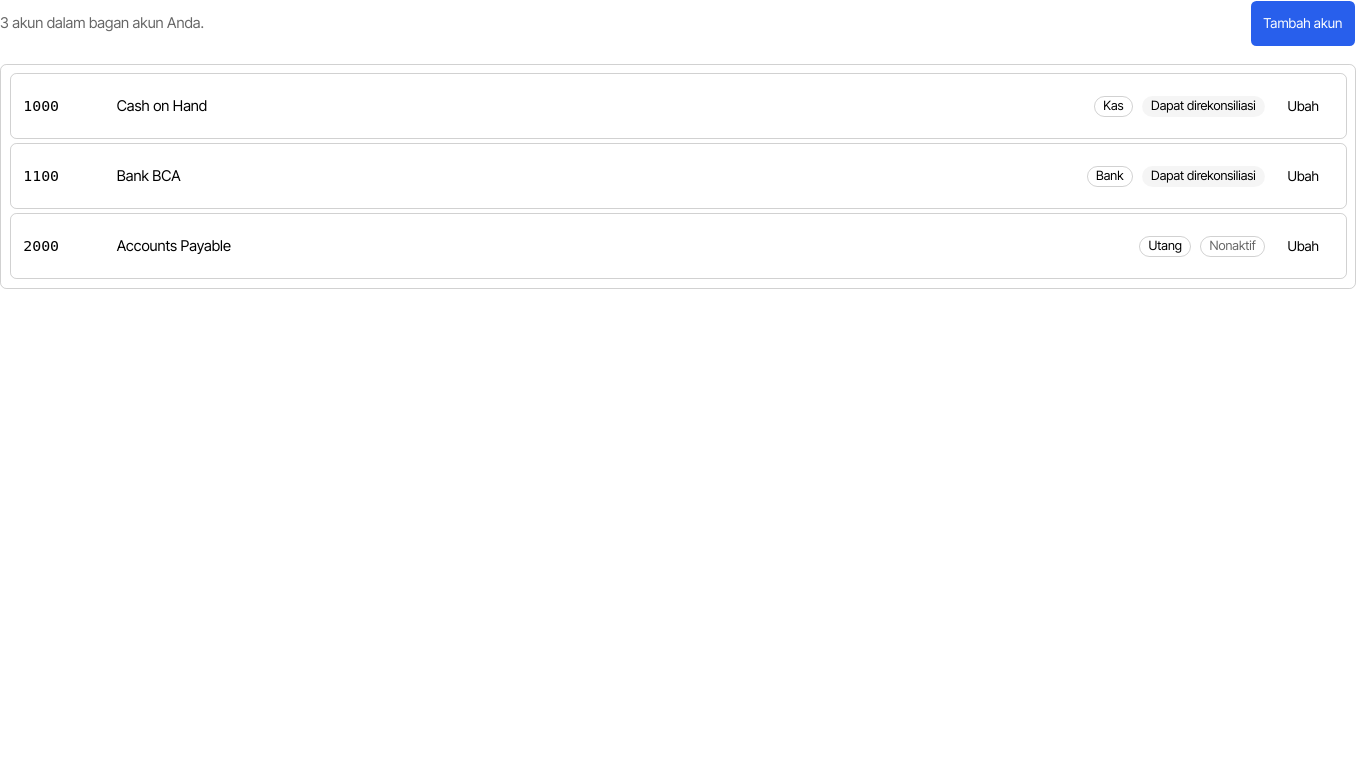
Test: AccountsSection › opens the create dialog from the add button
Expected: the text "Cash on Hand" is shown, 117,96 -> 207,114
Click the button "Tambah akun" at (1303, 23), box 1250,0 -> 1356,47
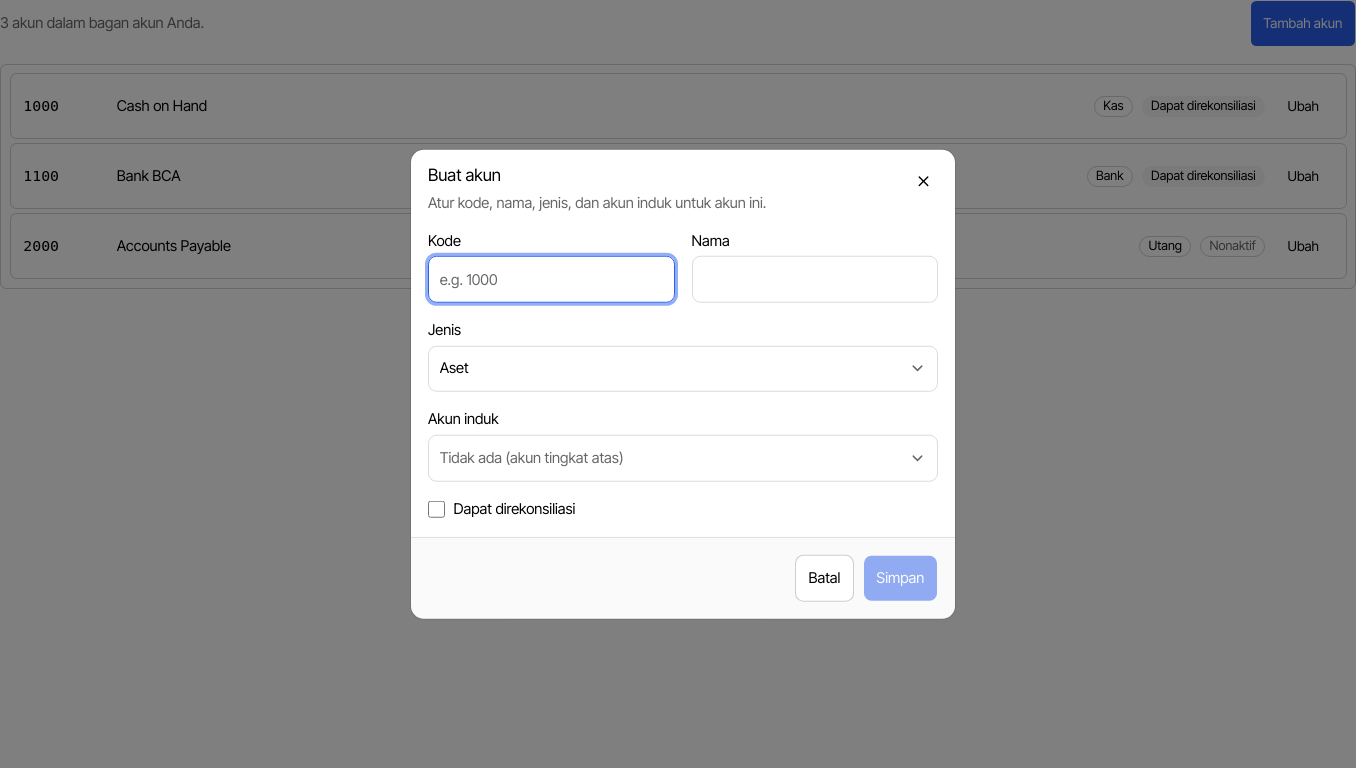
Result: the dialog is shown at 411,150 -> 955,618
Result: the heading "Buat akun" is shown at 428,165 -> 501,185
